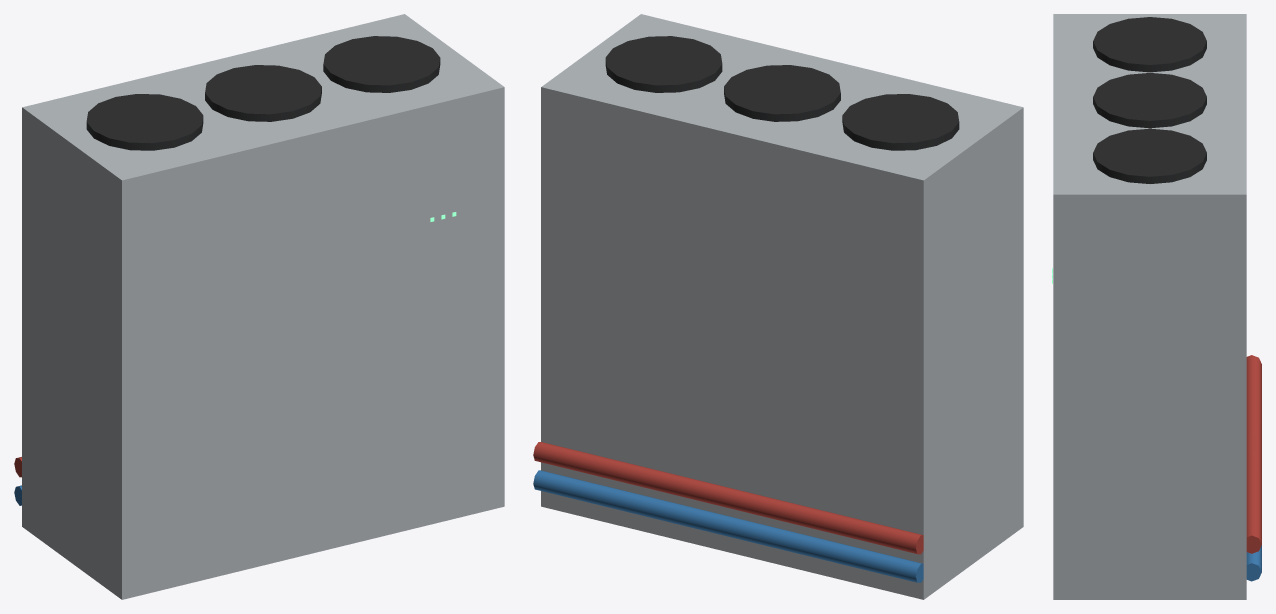
The model's file is dc-crah.glb.
3 views of the same model, side by side, from view 1: azimuth 30°, elevation 25°; view 2: azimuth 150°, elevation 25°; view 3: azimuth 270°, elevation 25° (orthographic). The views are drawn at different scales.
Parts seen in each view (by area): view 1: kit-dc-crah; view 2: kit-dc-crah; view 3: kit-dc-crah.
Part boxes in pixels (x1,y1,x2,y2): kit-dc-crah: (14,14,504,599); kit-dc-crah: (533,14,1023,599); kit-dc-crah: (1053,14,1261,599).
Bounding box in the file's own units: 2.1 × 2.24 × 1.03.
